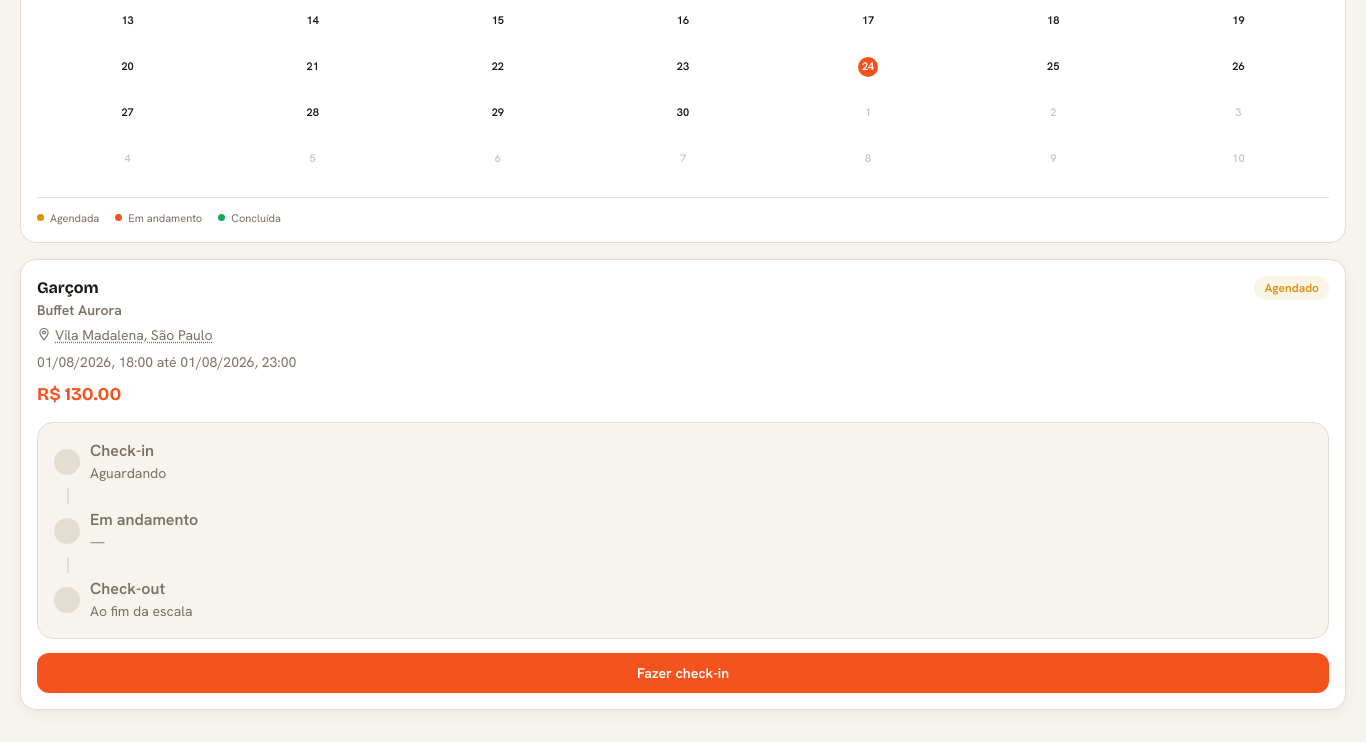
Test: AgendaPage › mostra a mensagem da API quando o check-in é rejeitado
(page scrolled)
expect the text "Agendado" is shown: met, box [1254,276,1329,300]
Click the button "Fazer check-in".
click(683, 673)  # box [37,653,1329,693]
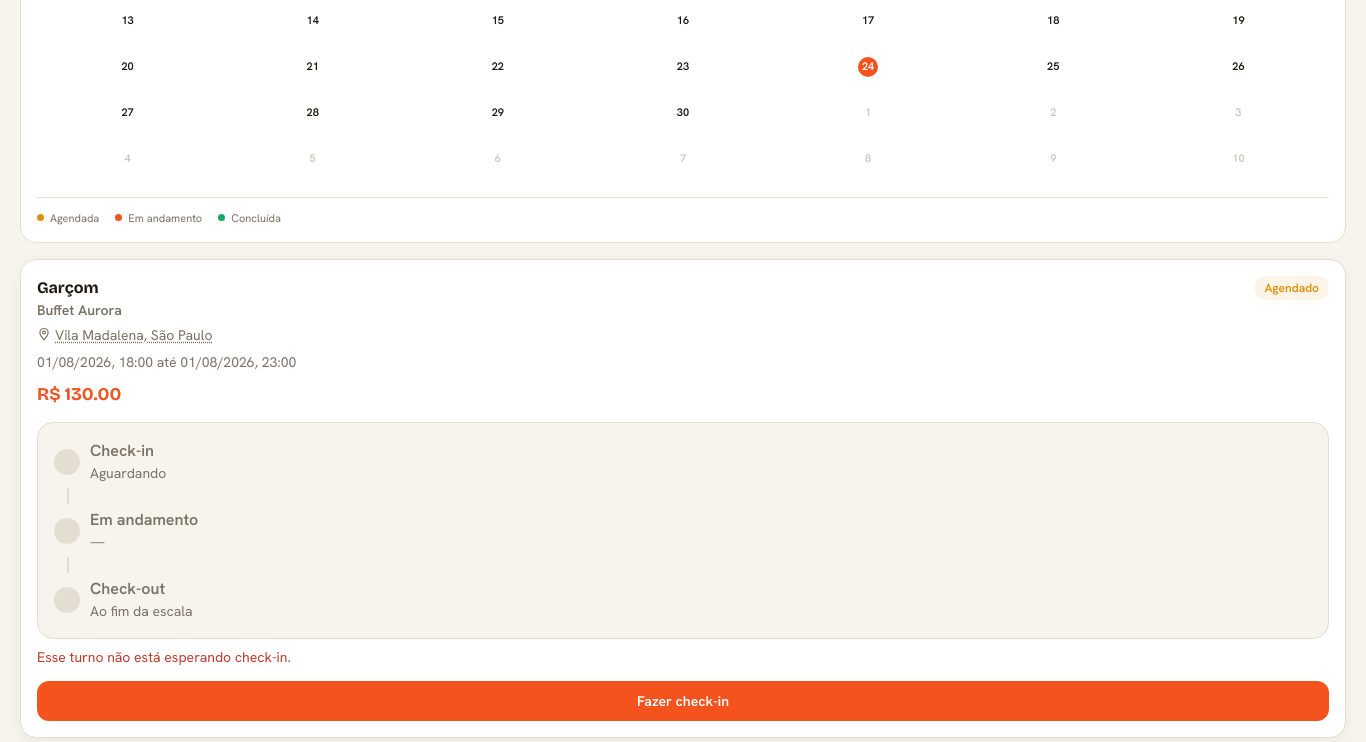
expect the text "Agendado" is shown: met, box [1254,276,1329,300]
expect the text "Esse turno não está esperando check-in." is shown: met, box [37,648,291,666]
